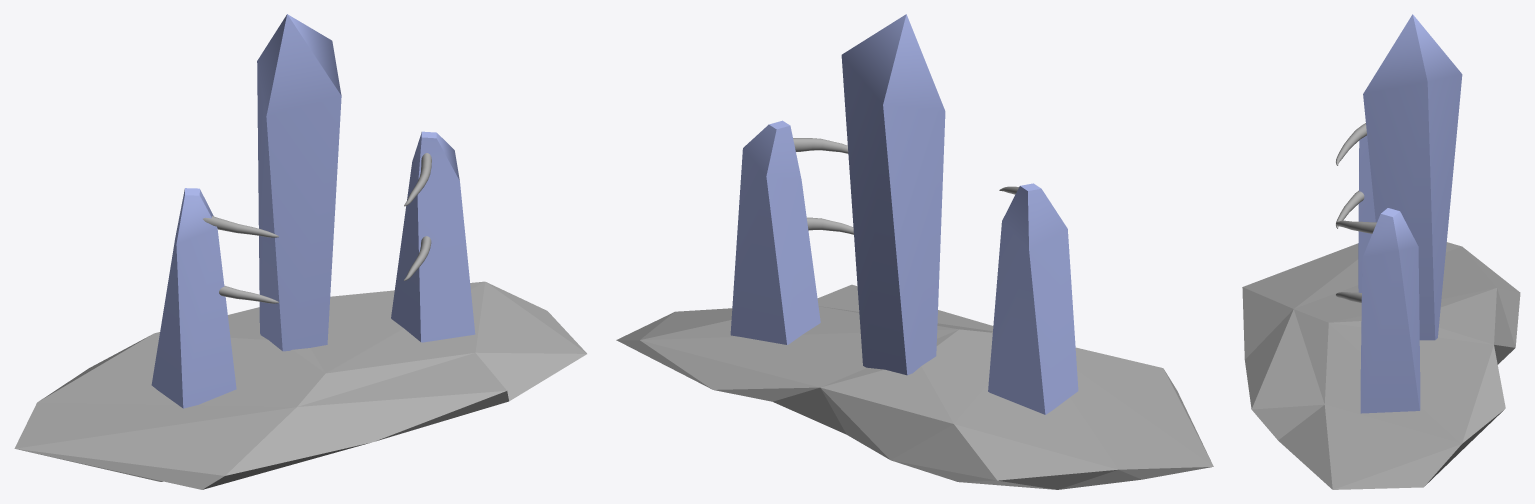
File: launchtower.fbx
3 renders of one model, left to right at view 1: azimuth 30°, elevation 25°; view 2: azimuth 150°, elevation 25°; view 3: azimuth 270°, elevation 25°, orthographic. The views are drawn at different scales.
Parts seen in each view (by area): view 1: rocks:pCube1, rocks:crystal2, crystal, rocks:crystal, horn1; view 2: rocks:pCube1, rocks:crystal2, crystal, rocks:crystal, horn2; view 3: rocks:pCube1, rocks:crystal2, rocks:crystal, crystal, horn1, horn2, horn4.
Boxes of the visible parts, x1=… form: rocks:pCube1: x1=14, y1=281, x2=586, y2=489; rocks:crystal2: x1=257, y1=14, x2=341, y2=351; crystal: x1=151, y1=188, x2=236, y2=408; rocks:crystal: x1=391, y1=131, x2=475, y2=342; horn1: x1=203, y1=216, x2=278, y2=237; rocks:pCube1: x1=616, y1=284, x2=1213, y2=489; rocks:crystal2: x1=841, y1=14, x2=945, y2=375; crystal: x1=988, y1=183, x2=1078, y2=414; rocks:crystal: x1=730, y1=120, x2=820, y2=344; horn2: x1=793, y1=138, x2=848, y2=153; rocks:pCube1: x1=1242, y1=242, x2=1520, y2=489; rocks:crystal2: x1=1363, y1=14, x2=1462, y2=340; rocks:crystal: x1=1360, y1=208, x2=1420, y2=413; crystal: x1=1358, y1=135, x2=1375, y2=292; horn1: x1=1336, y1=123, x2=1366, y2=165; horn2: x1=1336, y1=220, x2=1376, y2=233; horn4: x1=1336, y1=190, x2=1364, y2=228.
Size of the model in its own units: 14.68 by 10.88 by 6.78.
